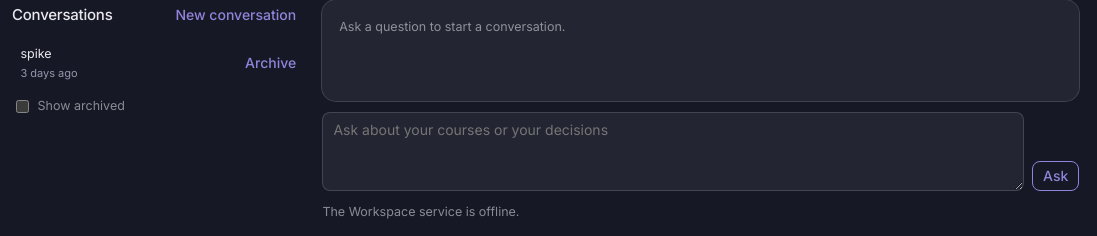
Test: the conversation list › lists archived conversations, each with "Unarchive", only when "Show archived" is on
Expected: the link "spike 3 days ago" is shown, [20, 46, 78, 80]
Click the checkbox labelled "Show archived".
click(22, 106)  # box [16, 100, 29, 113]
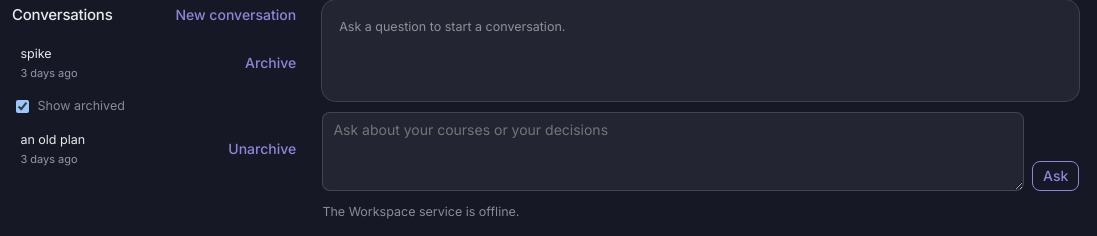
Expected: the number of buttons "Archive" is 1, [241, 48, 300, 78]
Result: the link "an old plan 3 days ago" is shown at [20, 132, 85, 166]
Result: the number of buttons "Unarchive" is 1 at [224, 134, 300, 164]
Click the checkbox labelled "Show archived".
click(22, 106)  # box [16, 100, 29, 113]
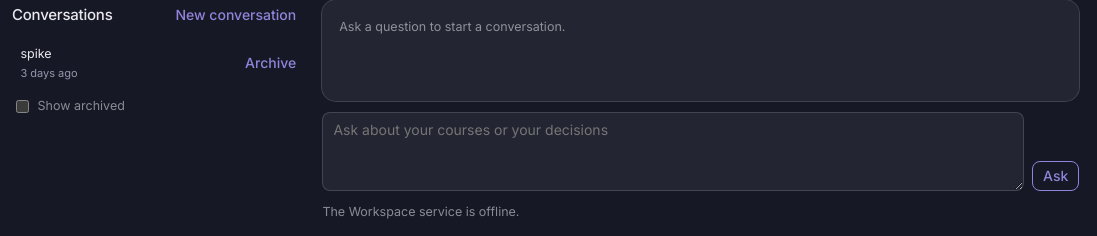
Result: the link "an old plan" is gone
